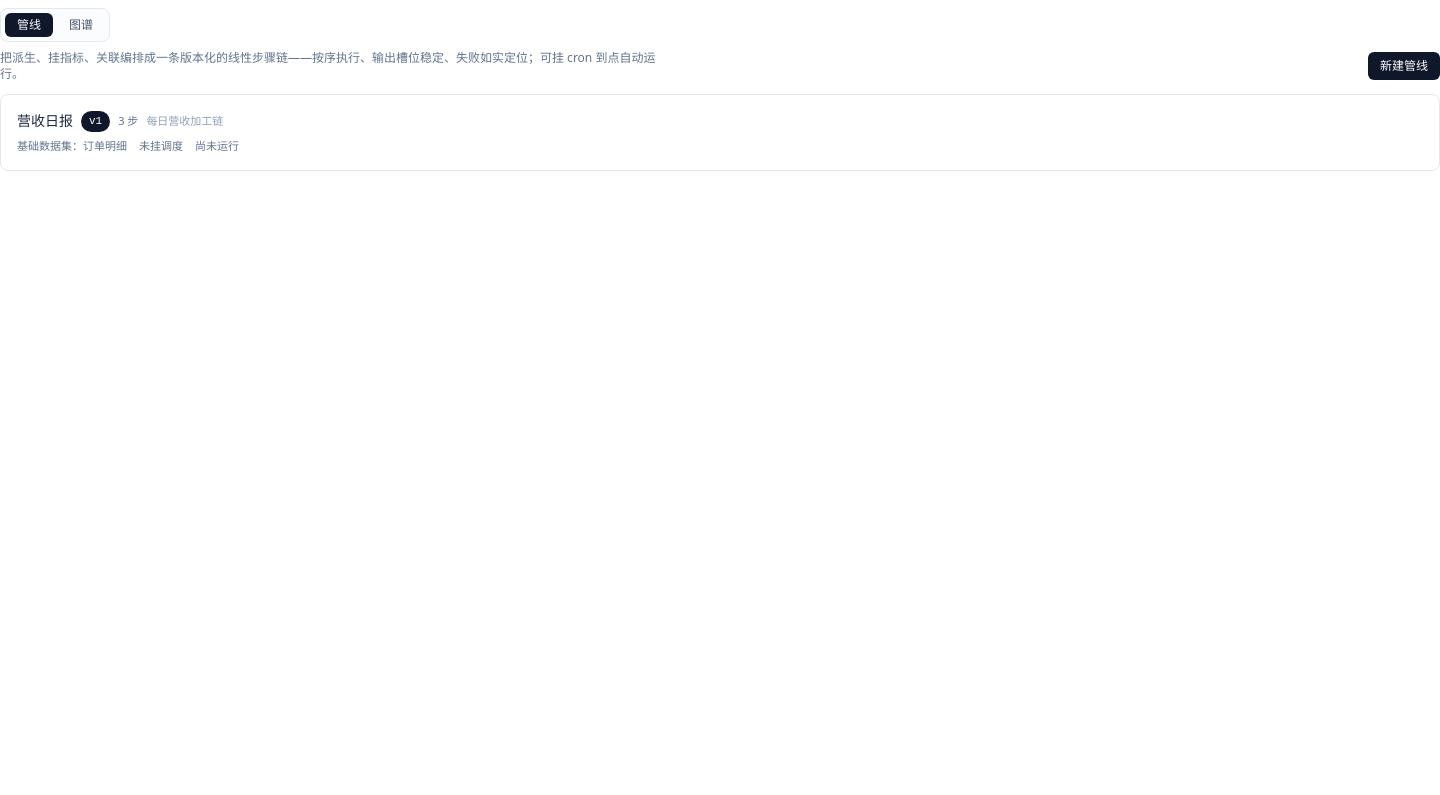
管线工作台 · 编辑器（5.2） › viewer 403：编辑器切只读态（字段禁用、保存收起、提示如实）
This screenshot has width=1440, height=795.
Click the button with test id "pipeline-row". click: [45, 121]
box: [0, 94, 1439, 171]
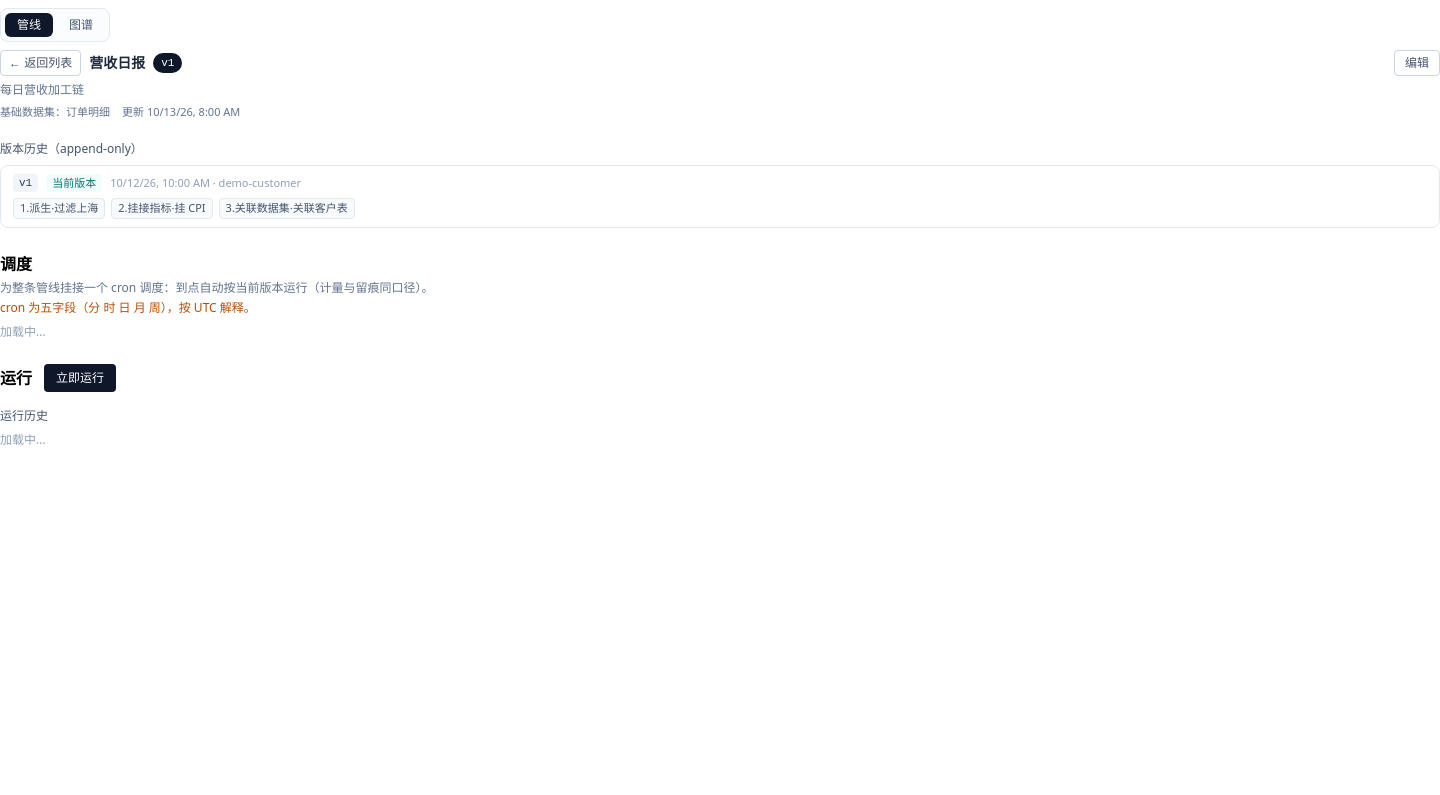
Expected: the element with test id "pipeline-detail" is shown, [0, 50, 1439, 448]
Click the button with test id "pipeline-edit". click: [1417, 63]
box: [1394, 50, 1439, 76]
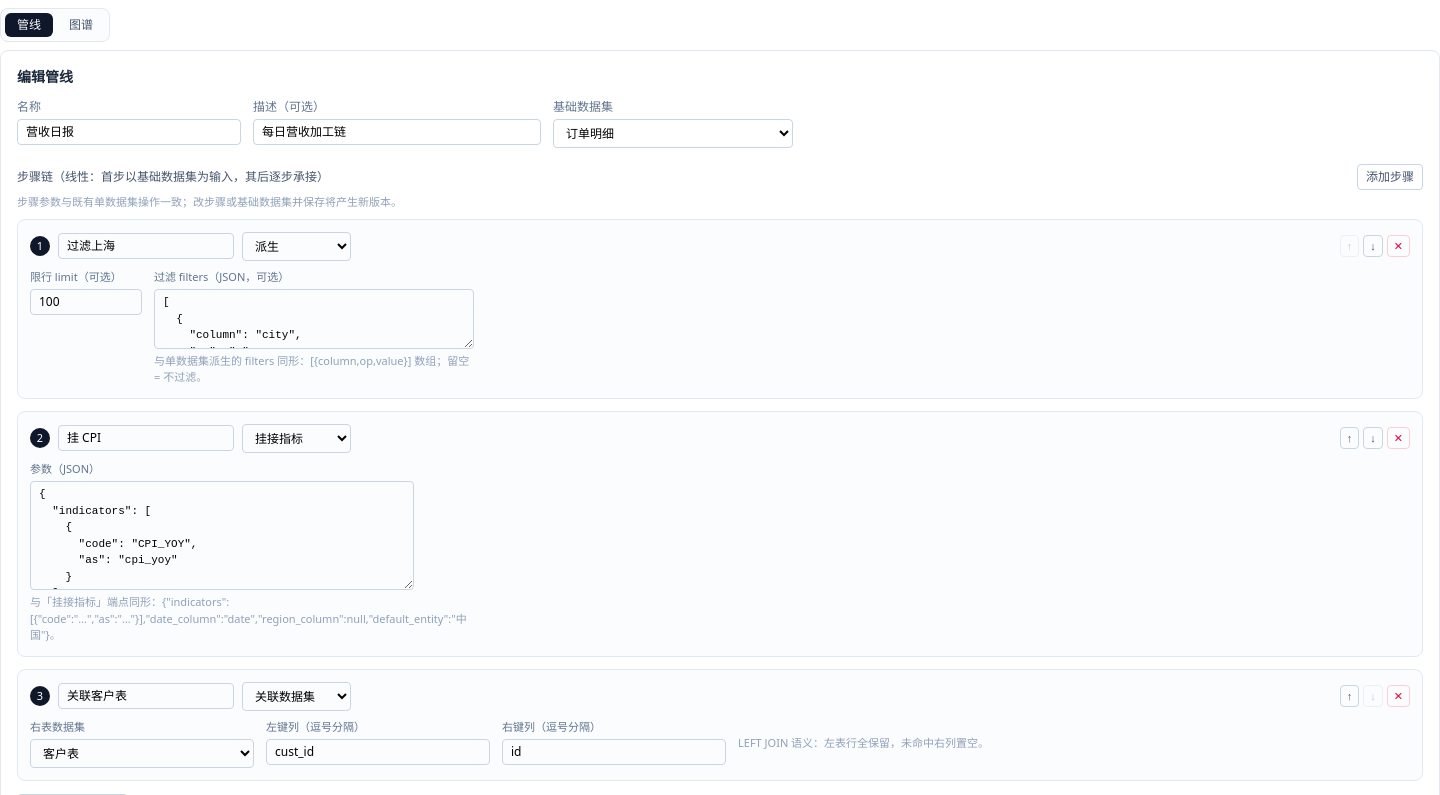
Replace the text in the field with test id "pipeline-editor-name" with "想改个名". click: [129, 132]
box: [17, 119, 241, 145]
(page scrolled)
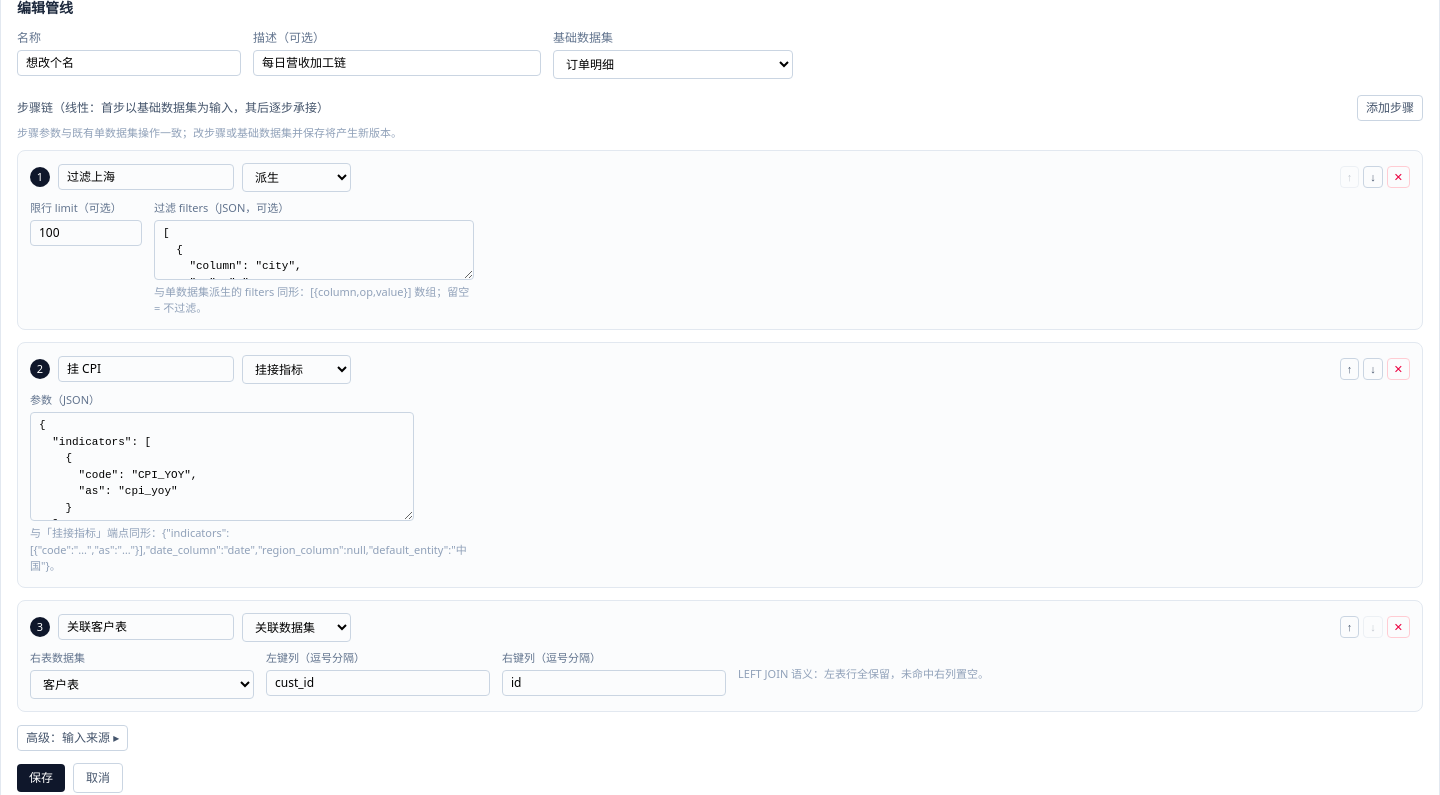
Click the button with test id "pipeline-editor-save". click: [41, 778]
box: [17, 764, 65, 792]
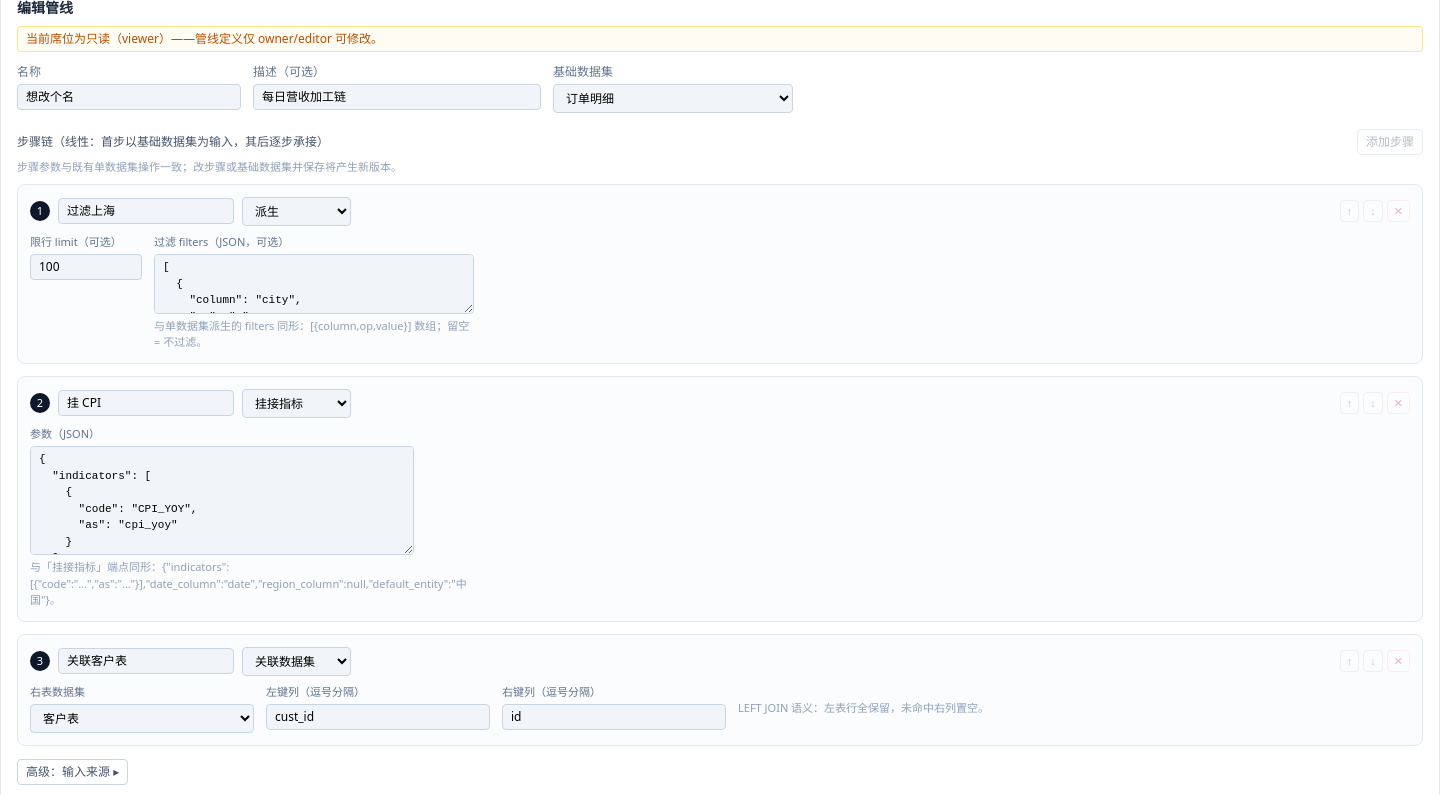
Expected: the text with test id "pipeline-editor-readonly" shows "viewer", [26, 30, 383, 47]
Expected: the button with test id "pipeline-editor-save" is gone
Expected: the field with test id "pipeline-editor-name" is disabled, [17, 84, 241, 110]
